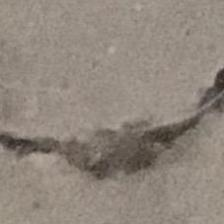Crack: (8, 73, 224, 190)
